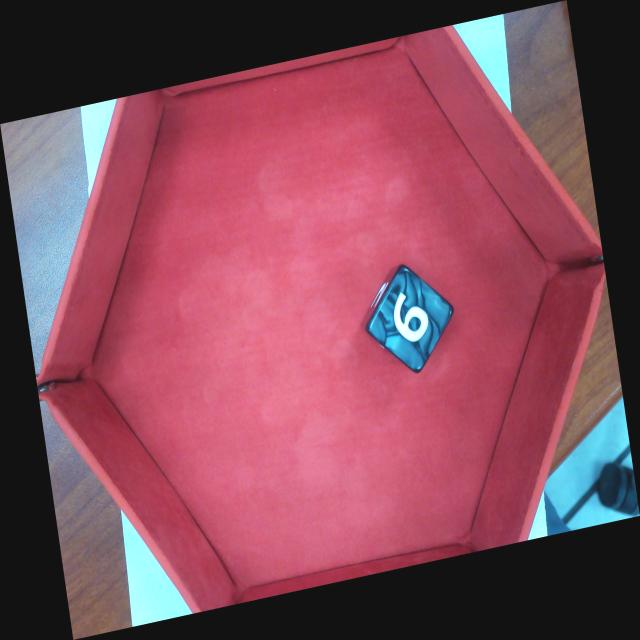dice: (364, 258, 457, 378)
